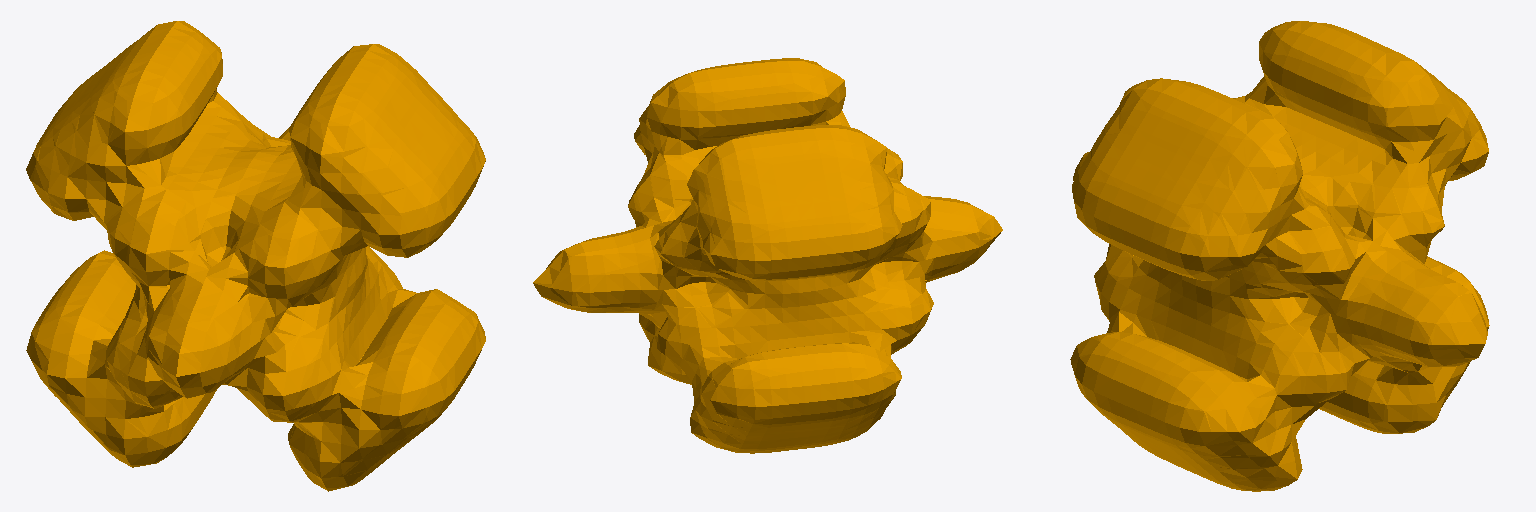
URDF robot description (object):
<?xml version="1.0"?>
<robot name="object">
  <link name="object">
    <visual>
      <origin xyz="0 0 0"/>
      <geometry>
        <mesh filename="meshes/subset_100_scaled/egad_E25_0_s.obj" scale=".03 .03 .03"/>
      </geometry>
    </visual>
    <collision>
  <origin xyz="0 0 0"/>
  <geometry>
    <mesh filename="meshes/subset_100_scaled/egad_E25_0_s_0decompose.obj" scale=".03 .03 .03"/>
<!--          <mesh filename="meshes/custom/obj0_ball.obj" scale=".05 .05 .05"/>-->
  </geometry>
</collision><collision>
  <origin xyz="0 0 0"/>
  <geometry>
    <mesh filename="meshes/subset_100_scaled/egad_E25_0_s_1decompose.obj" scale=".03 .03 .03"/>
<!--          <mesh filename="meshes/custom/obj0_ball.obj" scale=".05 .05 .05"/>-->
  </geometry>
</collision><collision>
  <origin xyz="0 0 0"/>
  <geometry>
    <mesh filename="meshes/subset_100_scaled/egad_E25_0_s_2decompose.obj" scale=".03 .03 .03"/>
<!--          <mesh filename="meshes/custom/obj0_ball.obj" scale=".05 .05 .05"/>-->
  </geometry>
</collision><collision>
  <origin xyz="0 0 0"/>
  <geometry>
    <mesh filename="meshes/subset_100_scaled/egad_E25_0_s_3decompose.obj" scale=".03 .03 .03"/>
<!--          <mesh filename="meshes/custom/obj0_ball.obj" scale=".05 .05 .05"/>-->
  </geometry>
</collision><collision>
  <origin xyz="0 0 0"/>
  <geometry>
    <mesh filename="meshes/subset_100_scaled/egad_E25_0_s_4decompose.obj" scale=".03 .03 .03"/>
<!--          <mesh filename="meshes/custom/obj0_ball.obj" scale=".05 .05 .05"/>-->
  </geometry>
</collision><collision>
  <origin xyz="0 0 0"/>
  <geometry>
    <mesh filename="meshes/subset_100_scaled/egad_E25_0_s_5decompose.obj" scale=".03 .03 .03"/>
<!--          <mesh filename="meshes/custom/obj0_ball.obj" scale=".05 .05 .05"/>-->
  </geometry>
</collision><collision>
  <origin xyz="0 0 0"/>
  <geometry>
    <mesh filename="meshes/subset_100_scaled/egad_E25_0_s_6decompose.obj" scale=".03 .03 .03"/>
<!--          <mesh filename="meshes/custom/obj0_ball.obj" scale=".05 .05 .05"/>-->
  </geometry>
</collision><collision>
  <origin xyz="0 0 0"/>
  <geometry>
    <mesh filename="meshes/subset_100_scaled/egad_E25_0_s_7decompose.obj" scale=".03 .03 .03"/>
<!--          <mesh filename="meshes/custom/obj0_ball.obj" scale=".05 .05 .05"/>-->
  </geometry>
</collision><collision>
  <origin xyz="0 0 0"/>
  <geometry>
    <mesh filename="meshes/subset_100_scaled/egad_E25_0_s_8decompose.obj" scale=".03 .03 .03"/>
<!--          <mesh filename="meshes/custom/obj0_ball.obj" scale=".05 .05 .05"/>-->
  </geometry>
</collision><collision>
  <origin xyz="0 0 0"/>
  <geometry>
    <mesh filename="meshes/subset_100_scaled/egad_E25_0_s_9decompose.obj" scale=".03 .03 .03"/>
<!--          <mesh filename="meshes/custom/obj0_ball.obj" scale=".05 .05 .05"/>-->
  </geometry>
</collision><collision>
  <origin xyz="0 0 0"/>
  <geometry>
    <mesh filename="meshes/subset_100_scaled/egad_E25_0_s_10decompose.obj" scale=".03 .03 .03"/>
<!--          <mesh filename="meshes/custom/obj0_ball.obj" scale=".05 .05 .05"/>-->
  </geometry>
</collision><collision>
  <origin xyz="0 0 0"/>
  <geometry>
    <mesh filename="meshes/subset_100_scaled/egad_E25_0_s_11decompose.obj" scale=".03 .03 .03"/>
<!--          <mesh filename="meshes/custom/obj0_ball.obj" scale=".05 .05 .05"/>-->
  </geometry>
</collision>

<!--    <collision>-->
<!--      <origin xyz="0 0 0"/>-->
<!--      <geometry>-->
<!--        <mesh filename="meshes/subset_100_scaled/egad_E25_0_s.obj" scale=".03 .03 .03"/>-->
<!--&lt;!&ndash;          <mesh filename="meshes/custom/obj0_ball.obj" scale=".05 .05 .05"/>&ndash;&gt;-->
<!--      </geometry>-->
<!--    </collision>-->
    <inertial>
      <density value="1000.0"/>
    </inertial>
  </link>
</robot>

--- What the picture shows (computed from the rendered views, not written in the file) ---
3 views of the same robot in one strip: view 1: azimuth 30°, elevation 25°; view 2: azimuth 150°, elevation 25°; view 3: azimuth 270°, elevation 25° (orthographic).
Robot: object — 1 links, 0 joints (none); root link object; default pose: all joints at 0.
Visible links, largest first — view 1: object; view 2: object; view 3: object.
Boxes of the visible links, x1,y1,x2,y2 form: object: [26, 21, 485, 491]; object: [533, 58, 1002, 453]; object: [1070, 21, 1489, 491].
Size in the robot's own frame: 0.06 by 0.06 by 0.06 metres.
1 mesh visuals loaded from 1 distinct referenced files (1 OBJ).
